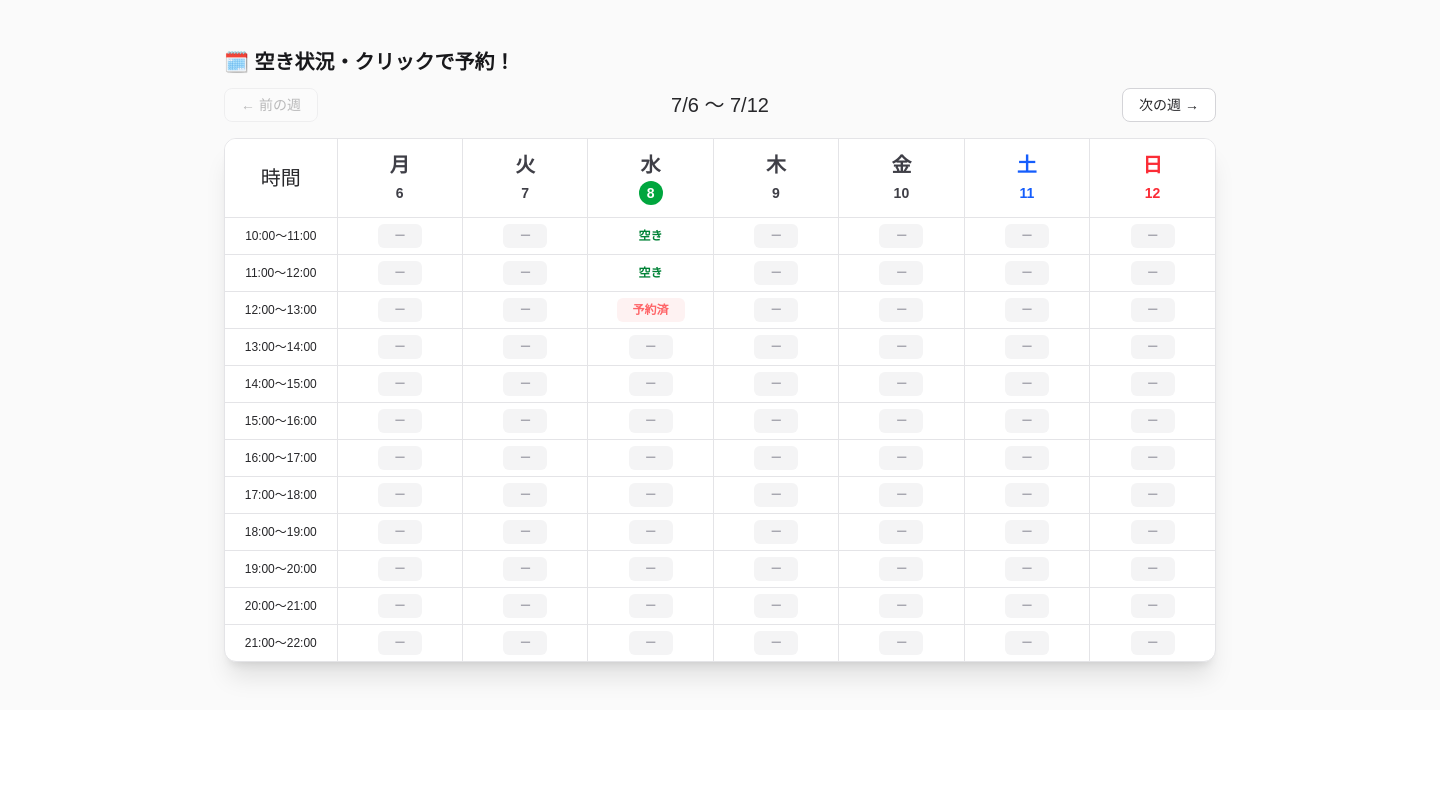
Test case: WeeklyCalendar › 開始・終了スロットを選ぶと平日料金で合計金額を計算し確認モーダルを開く
This screenshot has width=1440, height=810.
Click the 1st cell "空き" at coordinates (650, 236), box [588,218,713,254]
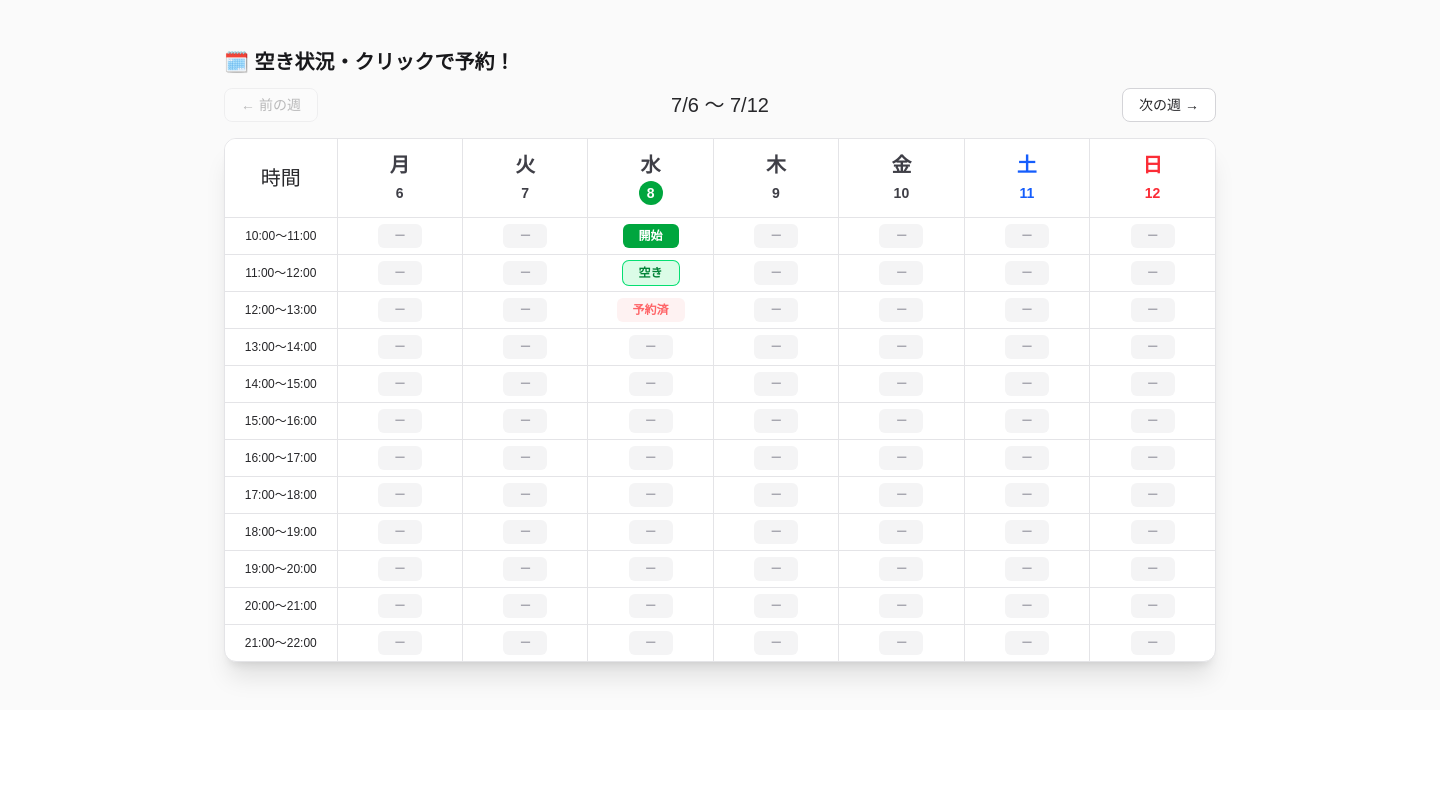
Click the cell "空き" at coordinates (650, 273), box [588,254,713,292]
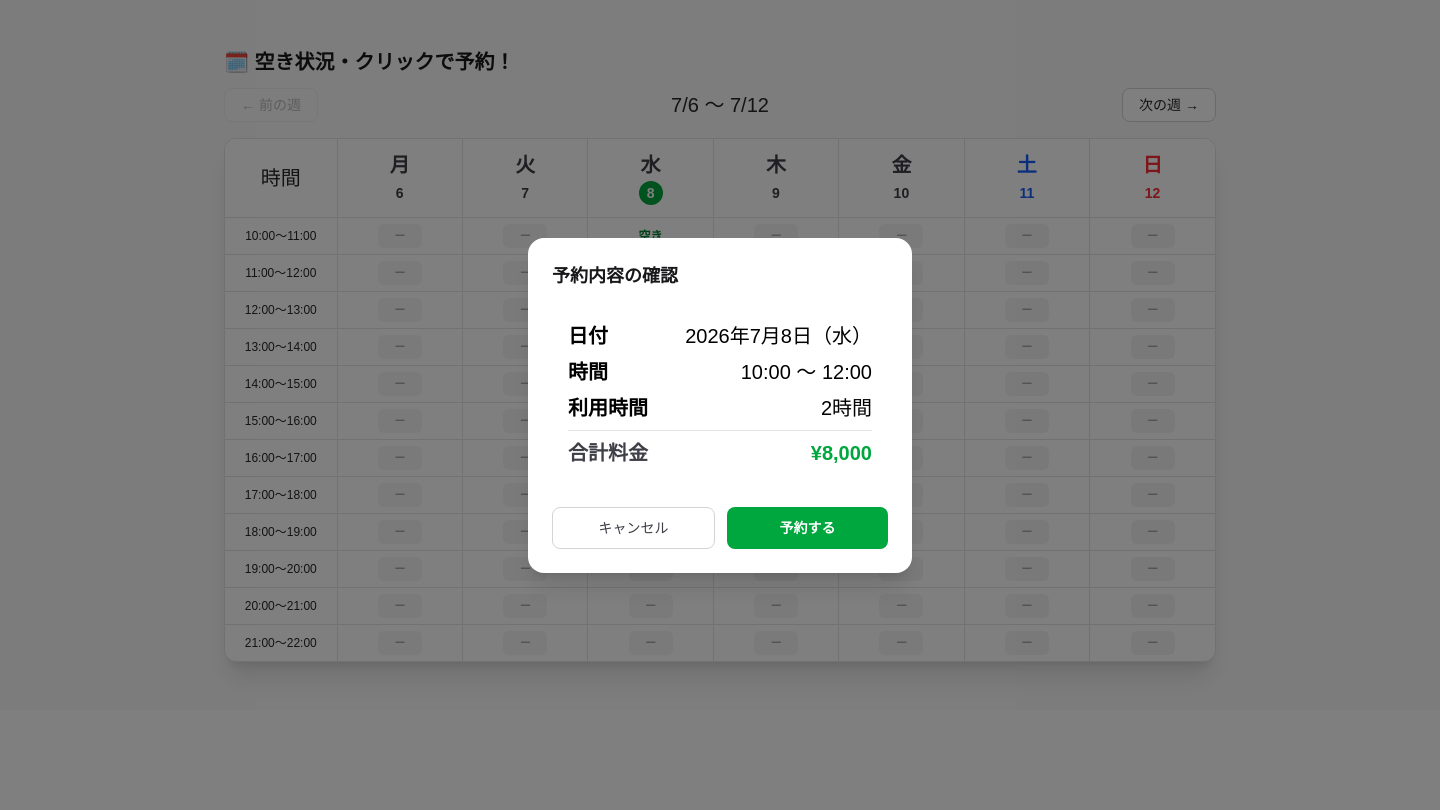
Expected: the heading "予約内容の確認" is shown, [552,266,678,286]
Expected: the text "10:00 〜 12:00" is shown, [741,358,872,386]
Expected: the text "2時間" is shown, [821,394,872,422]
